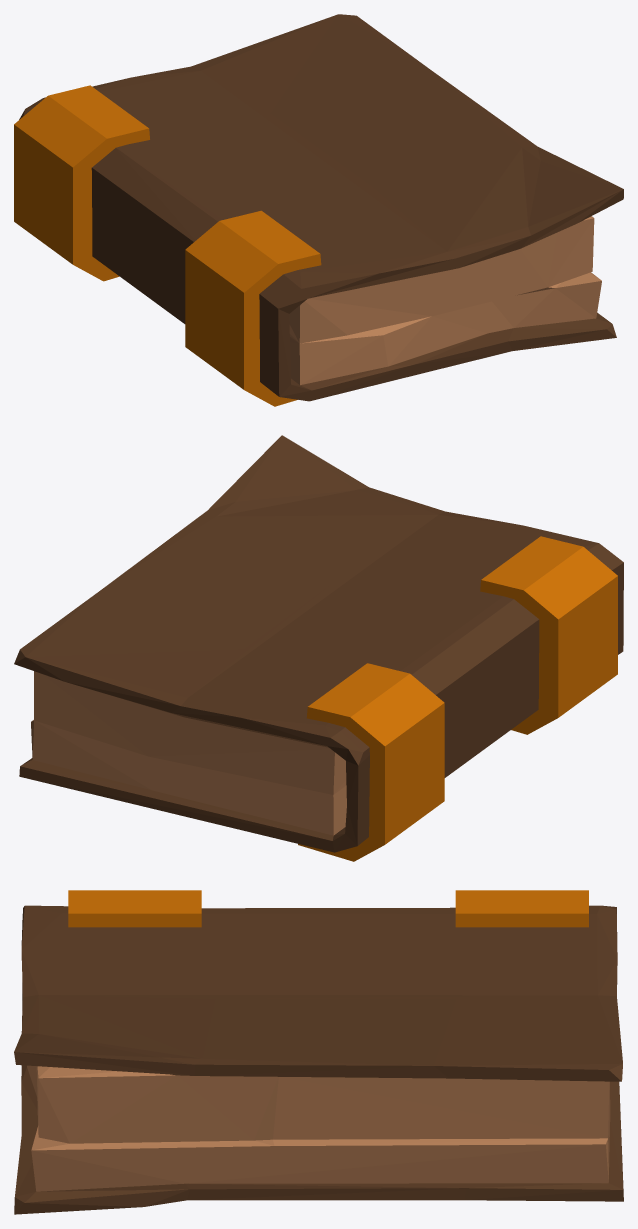
File: MDungeon_Book_05.FBX
The picture shows the model from 3 angles, top to bottom: view 1: azimuth 30°, elevation 25°; view 2: azimuth 150°, elevation 25°; view 3: azimuth 270°, elevation 25°; orthographic projection. The views are drawn at different scales.
Visible parts, largest first — view 1: MDgn_Book_05_LOD0; view 2: MDgn_Book_05_LOD0; view 3: MDgn_Book_05_LOD0.
Boxes of the visible parts, x1=… form: MDgn_Book_05_LOD0: x1=14, y1=14, x2=623, y2=406; MDgn_Book_05_LOD0: x1=14, y1=435, x2=623, y2=861; MDgn_Book_05_LOD0: x1=14, y1=890, x2=623, y2=1214.
Size of what is drawn, in the model's own units: 0.419 by 0.1751 by 0.5489.
